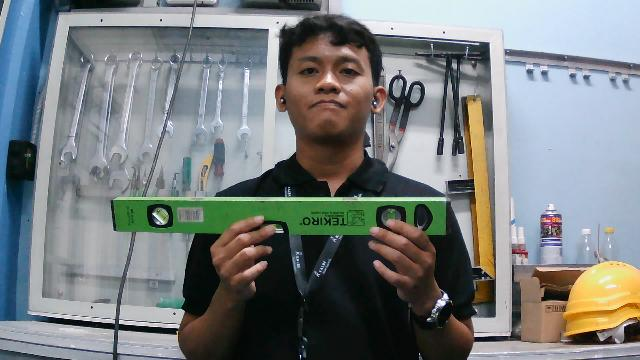water_pass: (108, 192, 453, 241)
